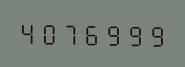four: (17, 18, 37, 46)
nine: (143, 20, 163, 48), (101, 20, 121, 47), (122, 20, 142, 47)
seven: (59, 19, 79, 46)
six: (80, 19, 100, 47)
zero: (38, 19, 58, 46)
